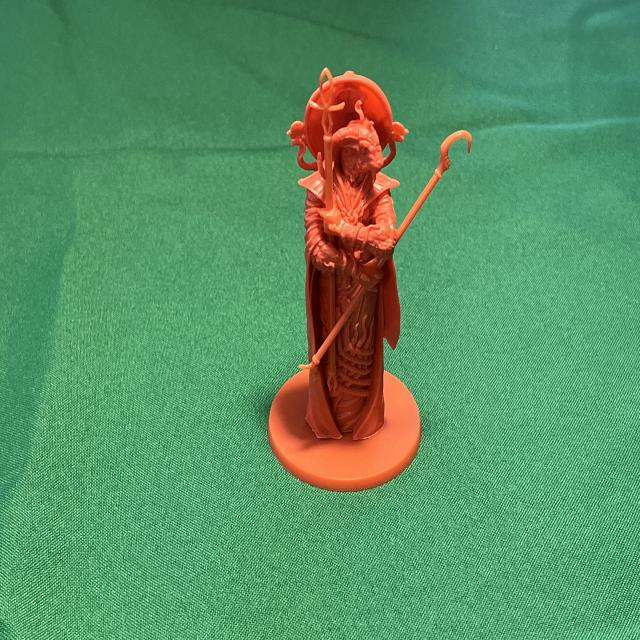amon: (260, 59, 474, 498)
